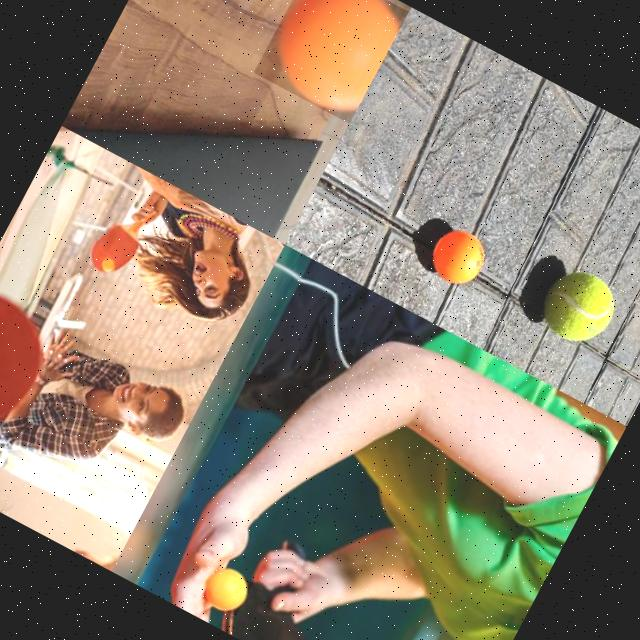ping-pong-ball: (252, 0, 409, 122), (424, 224, 492, 292), (198, 560, 254, 616), (100, 255, 116, 272)
